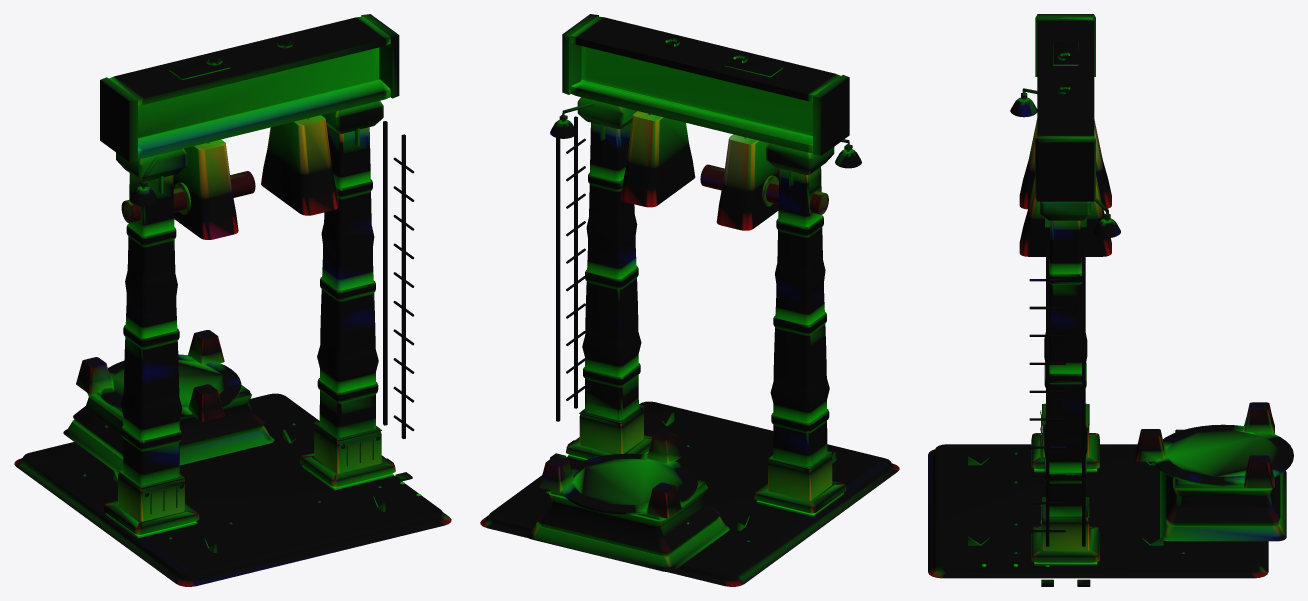
Rendered from aqs002_press_static.glb.
3 views of the same model, side by side, from view 1: azimuth 30°, elevation 25°; view 2: azimuth 150°, elevation 25°; view 3: azimuth 270°, elevation 25° (orthographic). The views are drawn at different scales.
Visible parts, largest first — view 1: PressStatic; view 2: PressStatic; view 3: PressStatic.
Part boxes in pixels (box(x1,y1,x2,y2)): PressStatic: box(14, 14, 451, 586); PressStatic: box(480, 14, 899, 586); PressStatic: box(928, 14, 1293, 586).
Bounding box in the file's own units: 3.6 × 5.41 × 4.04.
